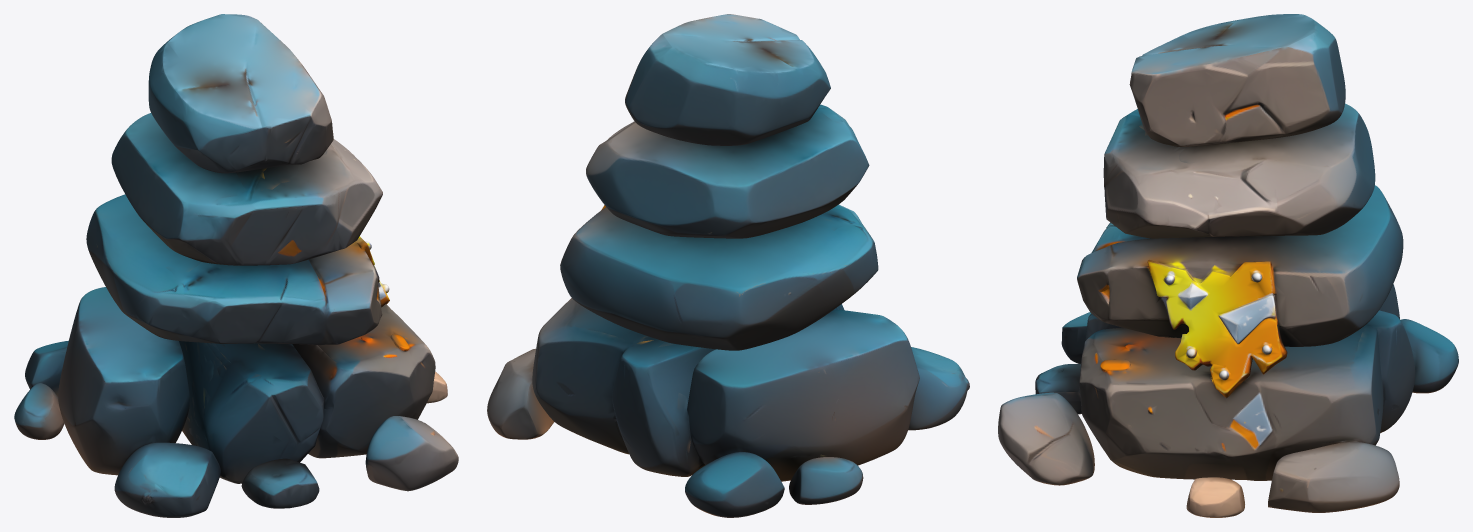
File: Cairn.glb
3 views of the same model, side by side, from view 1: azimuth 30°, elevation 25°; view 2: azimuth 150°, elevation 25°; view 3: azimuth 270°, elevation 25° (orthographic). The views are drawn at different scales.
Parts seen in each view (by area): view 1: node_0; view 2: node_0; view 3: node_0.
Boxes of the visible parts, x1,y1,x2,y2 form: node_0: (14, 14, 458, 517); node_0: (487, 14, 969, 517); node_0: (998, 14, 1458, 517).
Size of the model in its own units: 0.7789 by 0.7781 by 0.8168.
1 material, 1 textured.
